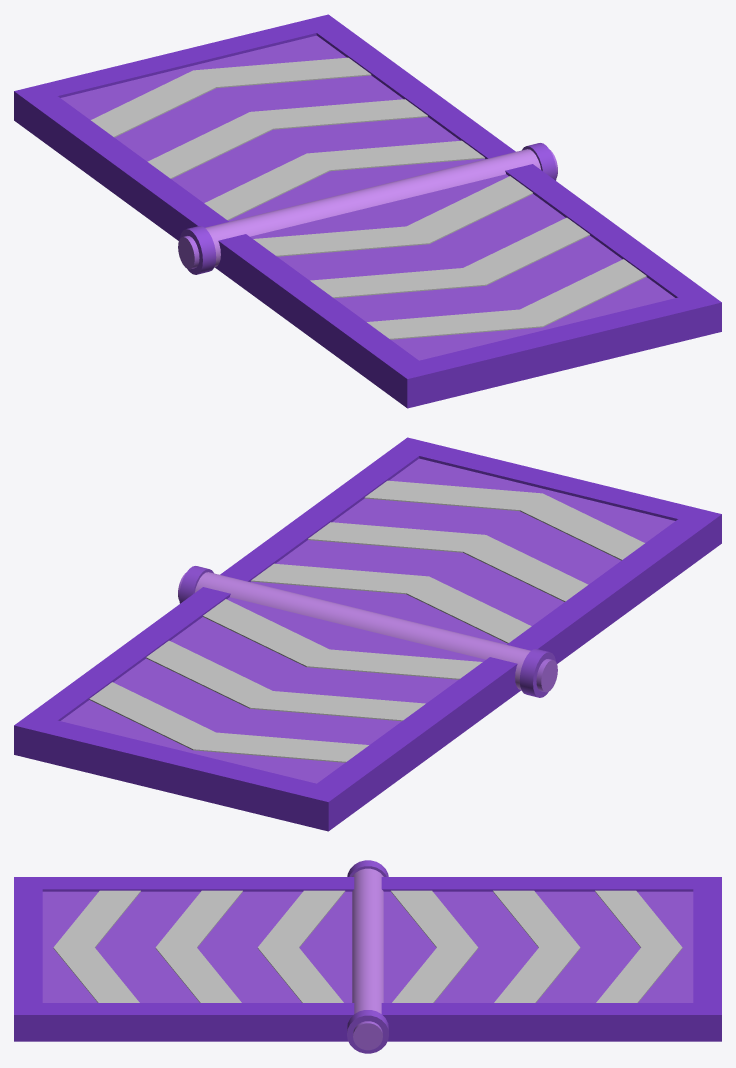
Rendered from Mobile_Ground1.fbx.
The picture shows the model from 3 angles, top to bottom: view 1: azimuth 30°, elevation 25°; view 2: azimuth 150°, elevation 25°; view 3: azimuth 270°, elevation 25°; orthographic projection. The views are drawn at different scales.
Visible parts, largest first — view 1: Cube.005; view 2: Cube.005; view 3: Cube.005.
Part boxes in pixels (x1=…): Cube.005: x1=14, y1=14, x2=721, y2=408; Cube.005: x1=14, y1=437, x2=721, y2=831; Cube.005: x1=14, y1=860, x2=721, y2=1053.
Bounding box in the file's own units: 4.09 × 7.67 × 0.4537.
